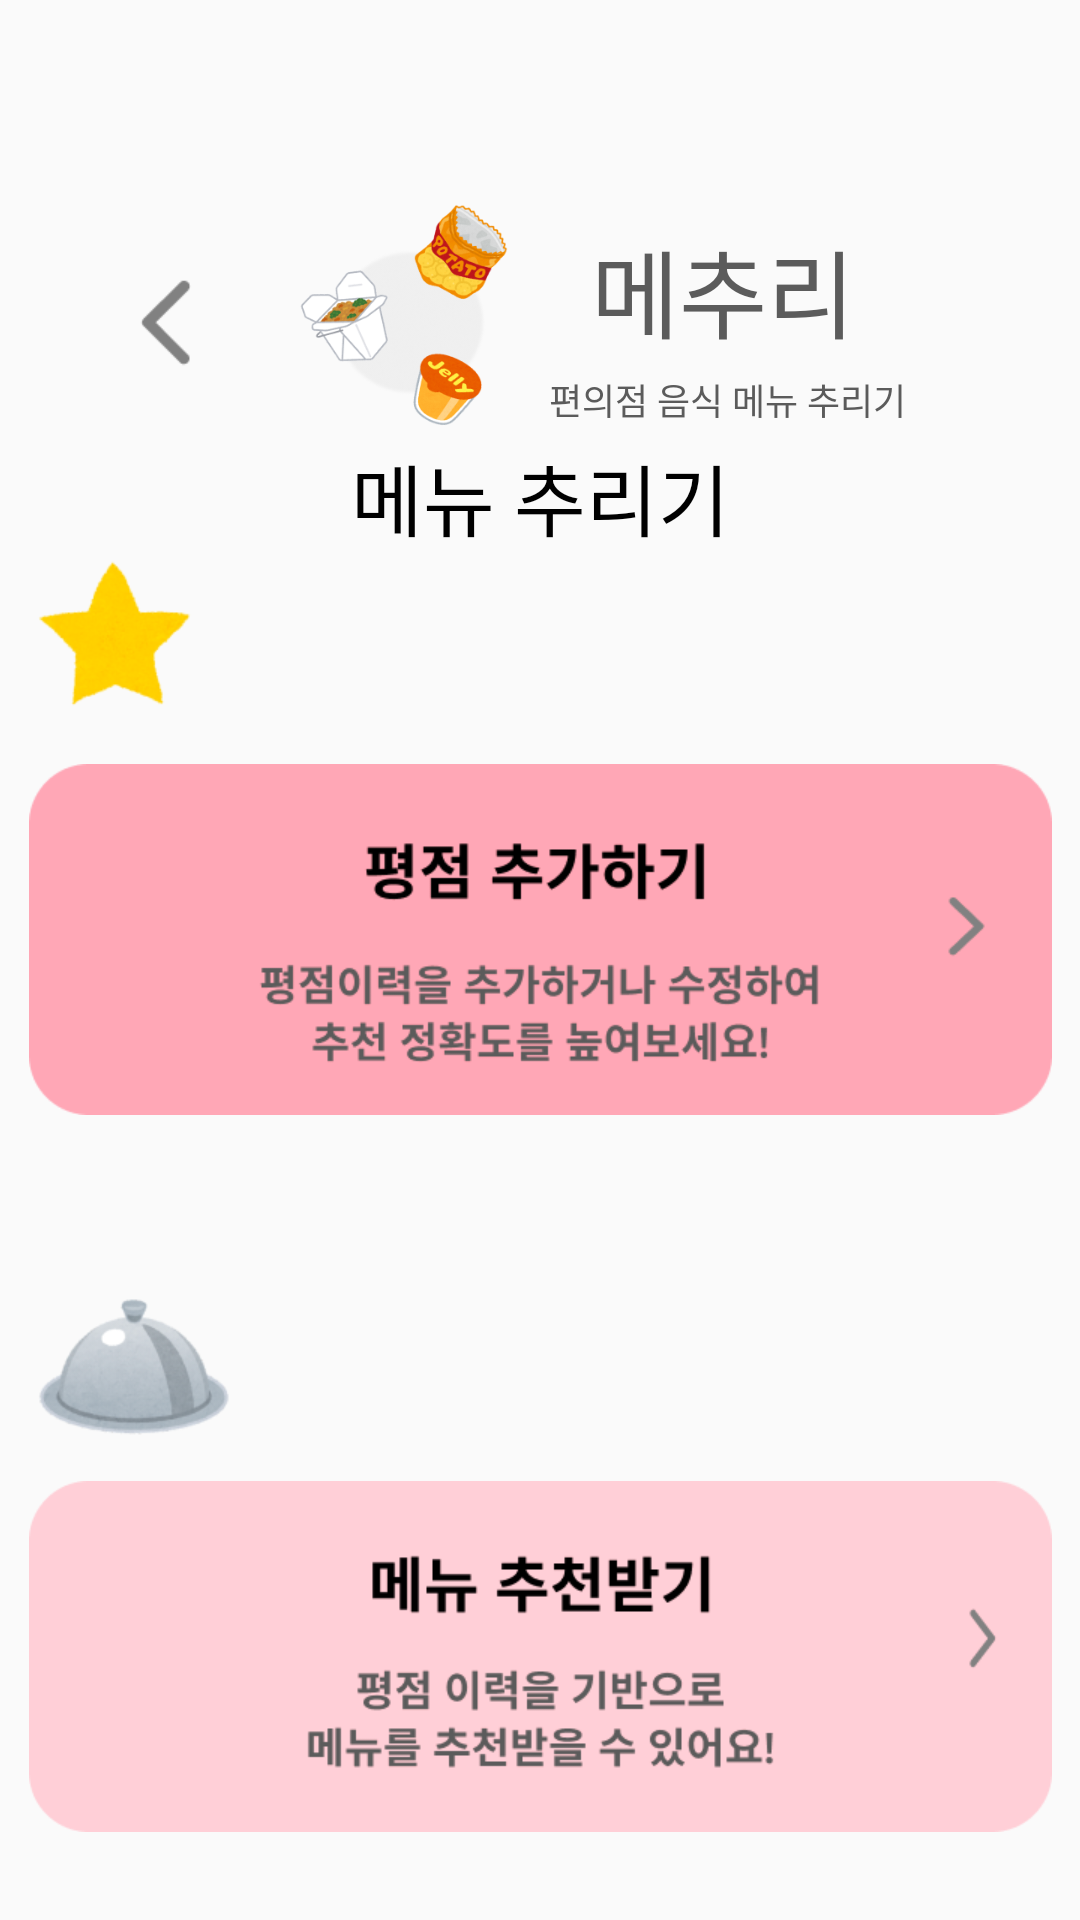

Screen size 1080×1920. Icon name, then its box in pixels as [x1,y1,x2,y2]:
backpressbtn: [142,280,190,365]
mainicon: [301,205,507,425]
recommendmenu menu: [40,1300,228,1433]
recommendmenu star: [39,562,190,705]
